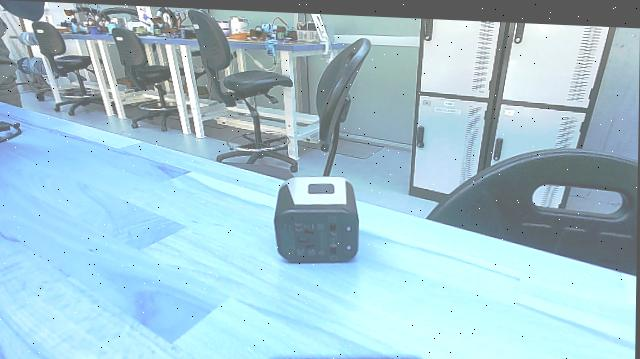adapter: (268, 167, 365, 267)
